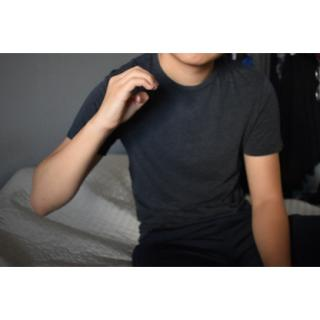JEEM: (98, 61, 164, 134)
